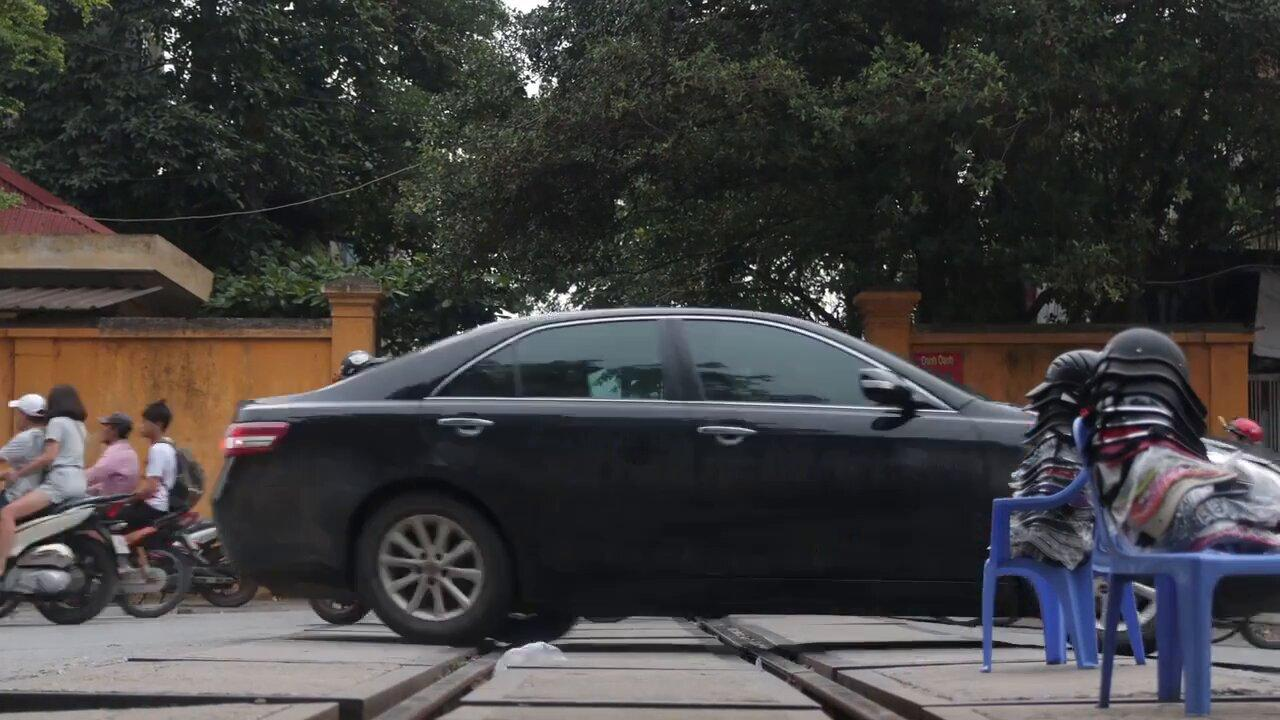driver: (0, 384, 138, 627)
no-helmet: (45, 383, 89, 422), (8, 393, 48, 431), (140, 397, 172, 438), (97, 412, 133, 446)
